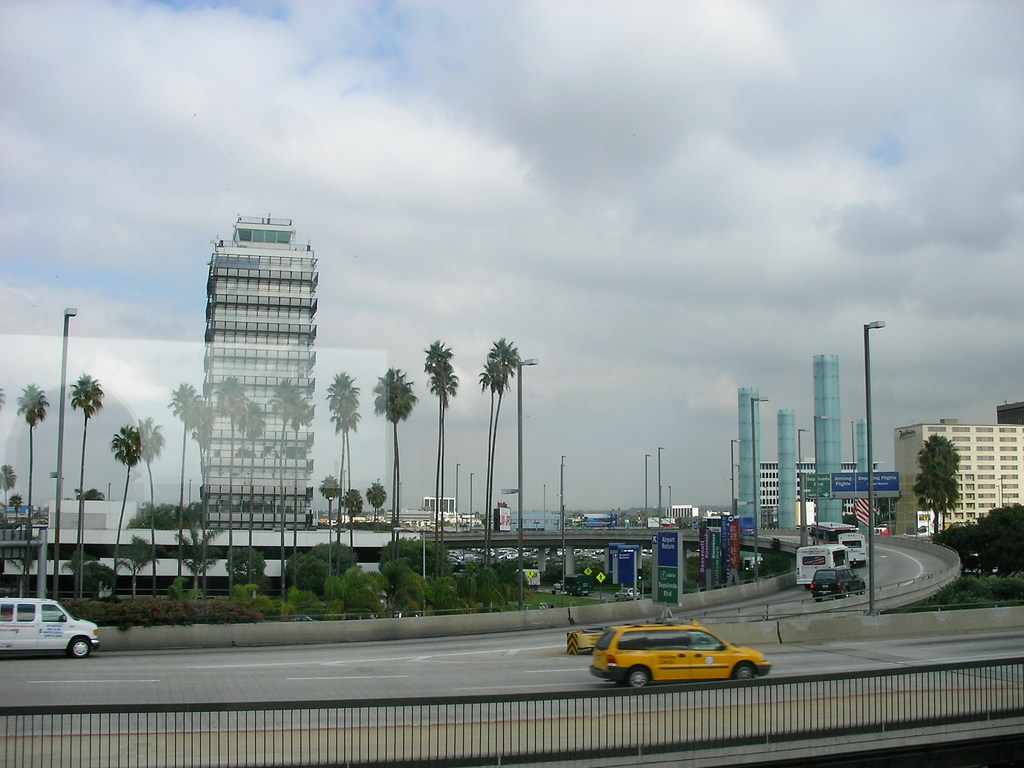Car: (570, 616, 769, 702)
